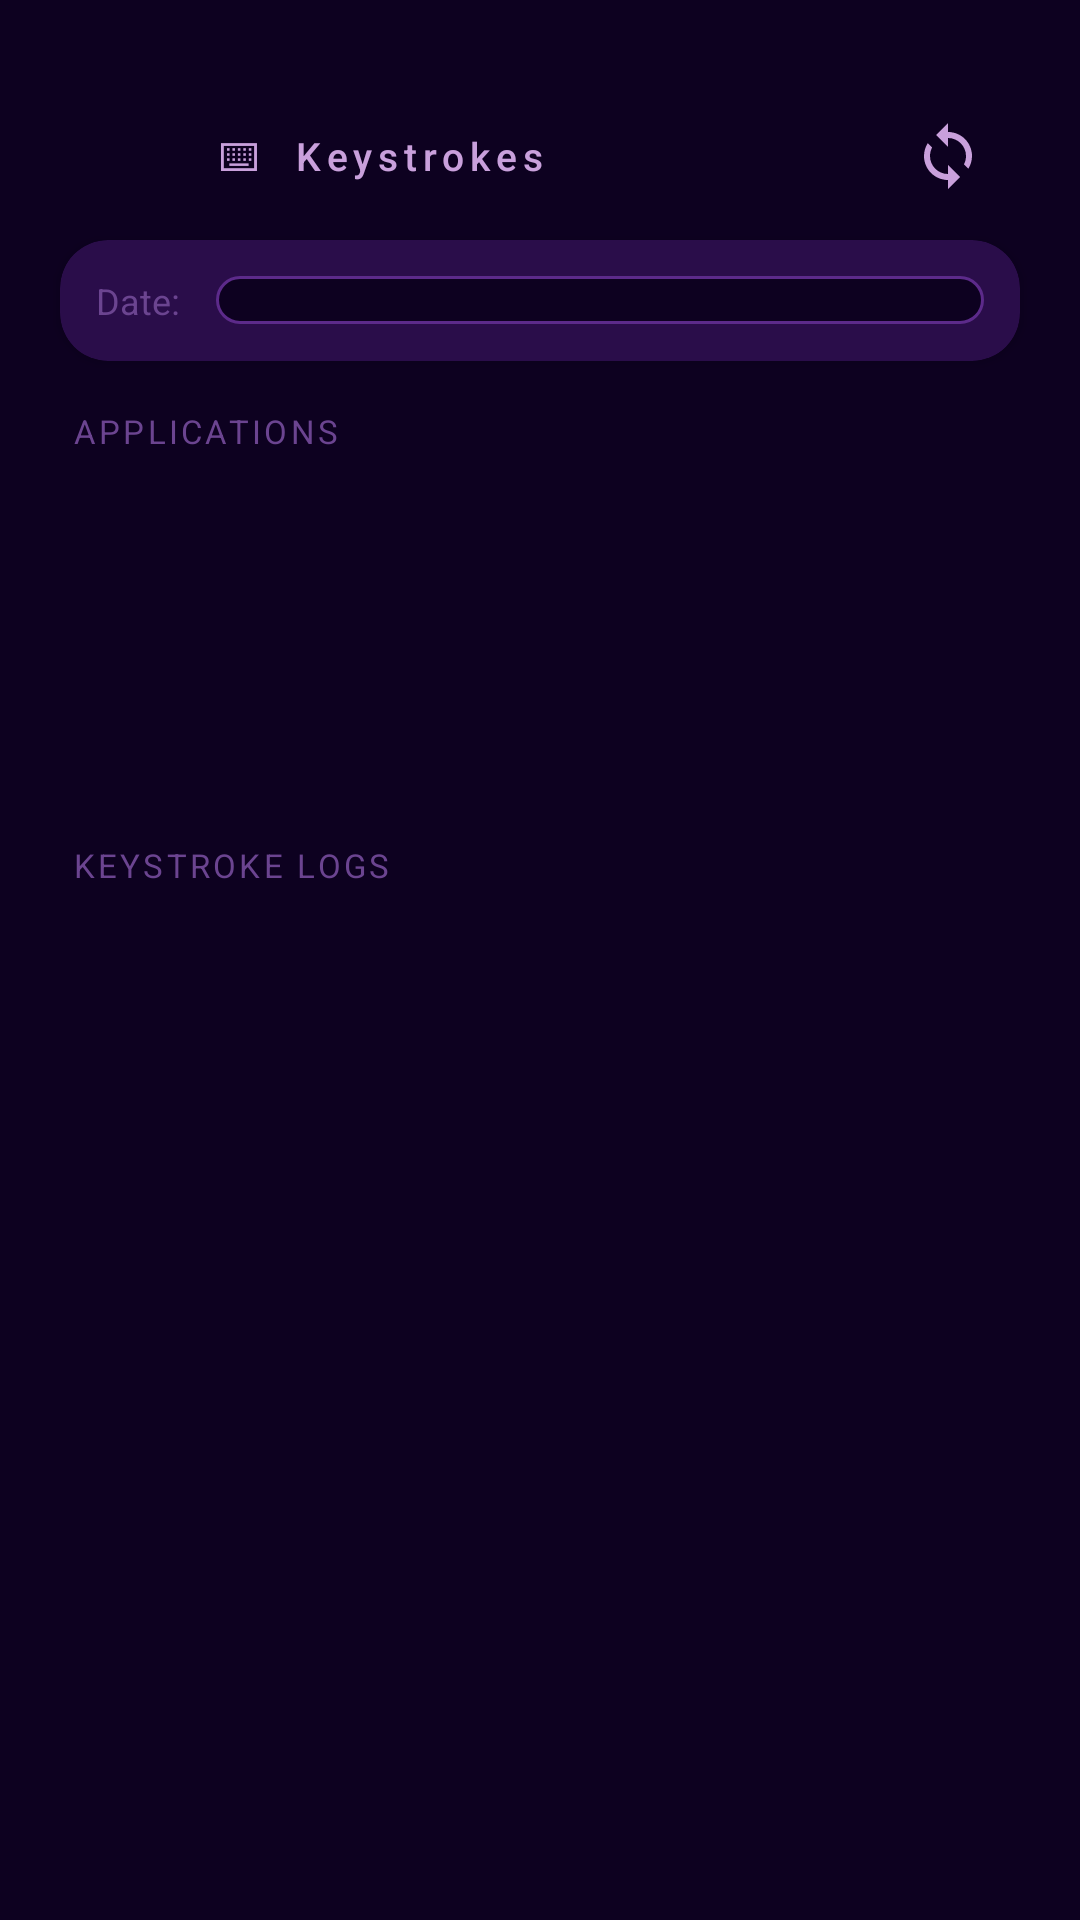

Icons on this 1080×1920 Android screen, each with its box as (x1, y1, x2, y2):
Refresh: (924, 123, 972, 189)
